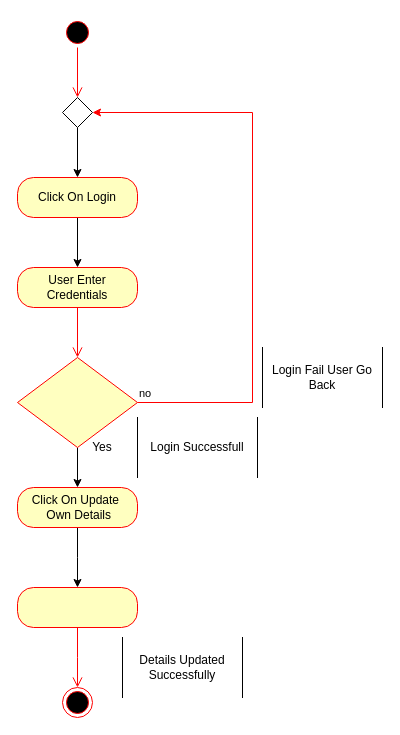
The diagram is 400 pixels wide and 735 high, and some of its shapes have lost their labels. Here are the shapes that lost their labels. From the top down, the box of each, then its label:
(16, 356, 138, 448): User Credentials Will Be Checked in DB
(16, 586, 138, 628): Enter New Details
